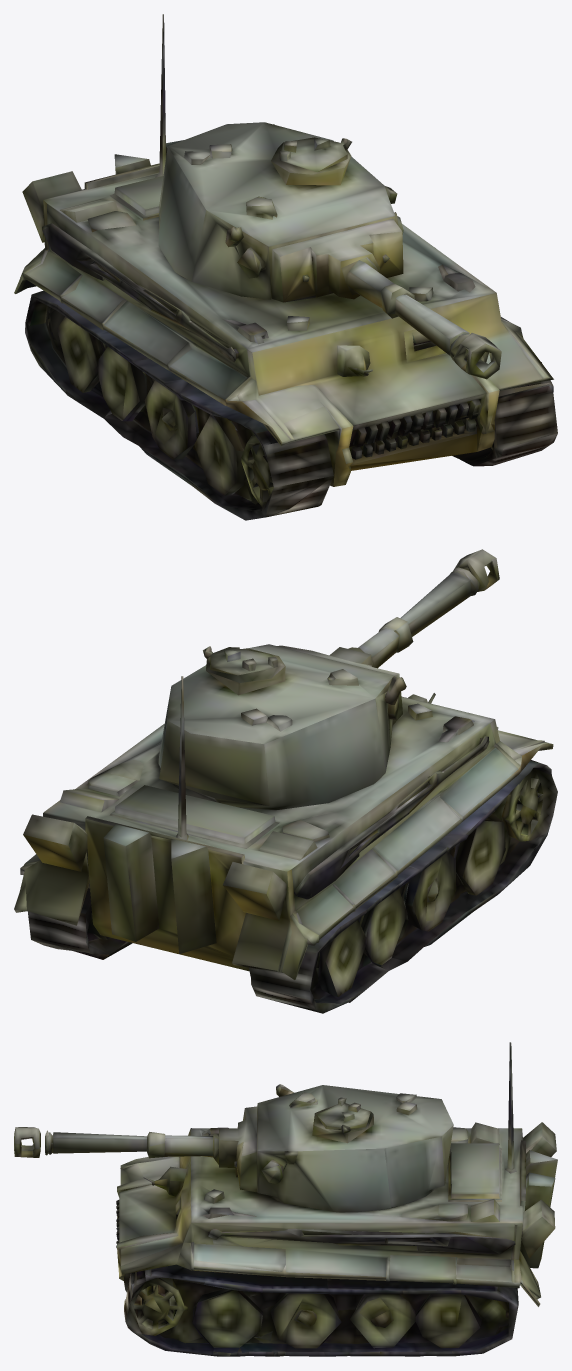
Rendered from tank6_opt.glb.
3 renders of one model, top to bottom at view 1: azimuth 30°, elevation 25°; view 2: azimuth 150°, elevation 25°; view 3: azimuth 270°, elevation 25°, orthographic. The views are drawn at different scales.
Parts seen in each view (by area): view 1: node_0; view 2: node_0; view 3: node_0.
Boxes of the visible parts, bbox=[...] form: node_0: bbox=[14, 14, 557, 520]; node_0: bbox=[14, 549, 557, 1013]; node_0: bbox=[14, 1042, 557, 1356].
Bounding box in the file's own units: 0.5476 × 0.5773 × 1.1.
1 material, 1 textured.
